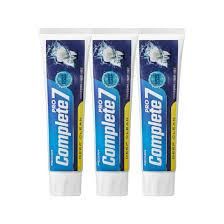toothpaste: (30, 24, 88, 199), (133, 26, 188, 198), (83, 21, 132, 198)
